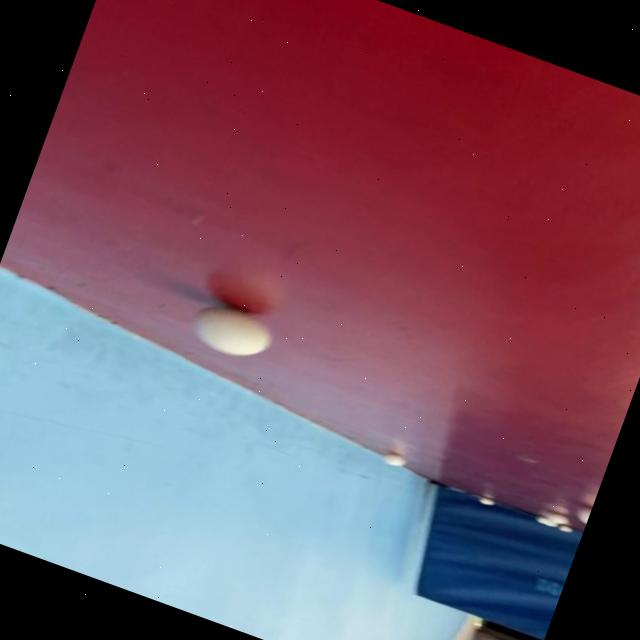ping-pong-ball: (178, 291, 282, 373)
